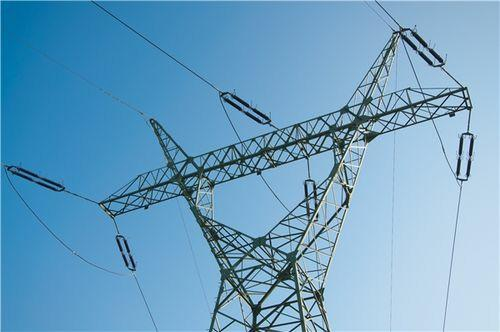power_tower: (91, 25, 470, 332)
